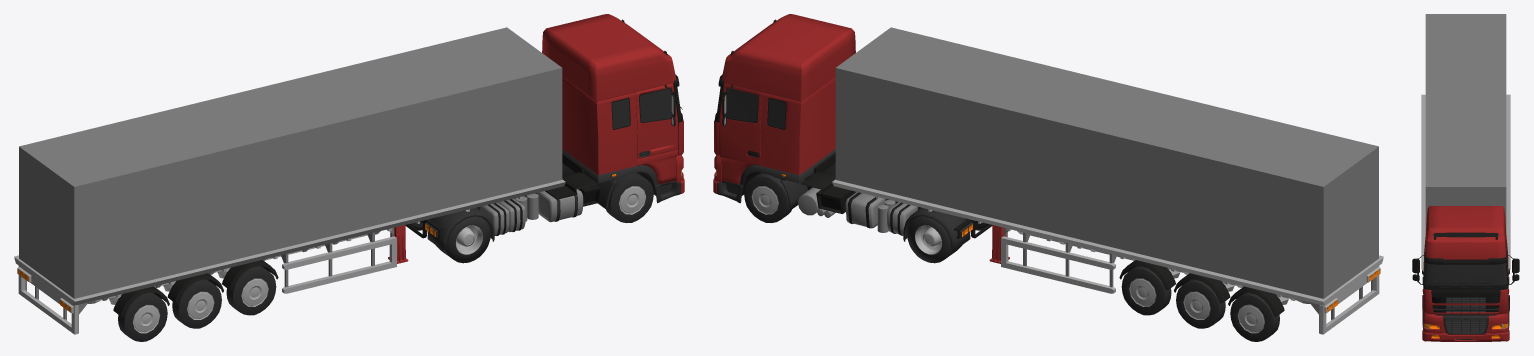
Rendered from sm_Truck_with_cargobox.fbx.
The picture shows the model from 3 angles, left to right: view 1: azimuth 30°, elevation 25°; view 2: azimuth 150°, elevation 25°; view 3: azimuth 270°, elevation 25°; orthographic projection. The views are drawn at different scales.
Parts seen in each view (by area): view 1: sm_Truck_with_cargobox; view 2: sm_Truck_with_cargobox; view 3: sm_Truck_with_cargobox.
Part boxes in pixels (x1,y1,x2,y2): sm_Truck_with_cargobox: (14, 14, 684, 341); sm_Truck_with_cargobox: (713, 14, 1383, 341); sm_Truck_with_cargobox: (1412, 14, 1519, 341).
Size of the model in its own units: 15.27 by 4.05 by 3.17.
